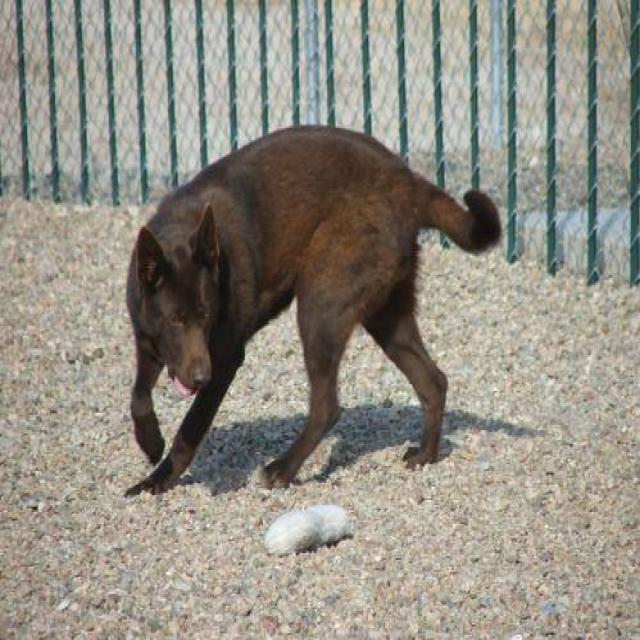dog: (122, 121, 501, 498)
